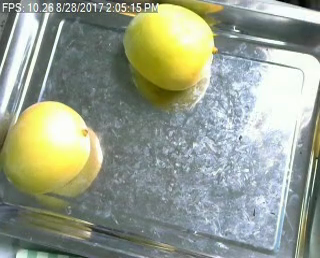Mango: (0, 99, 95, 200), (120, 4, 219, 92)
